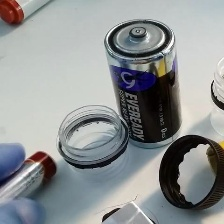battery: (100, 16, 186, 156), (0, 148, 59, 223)
